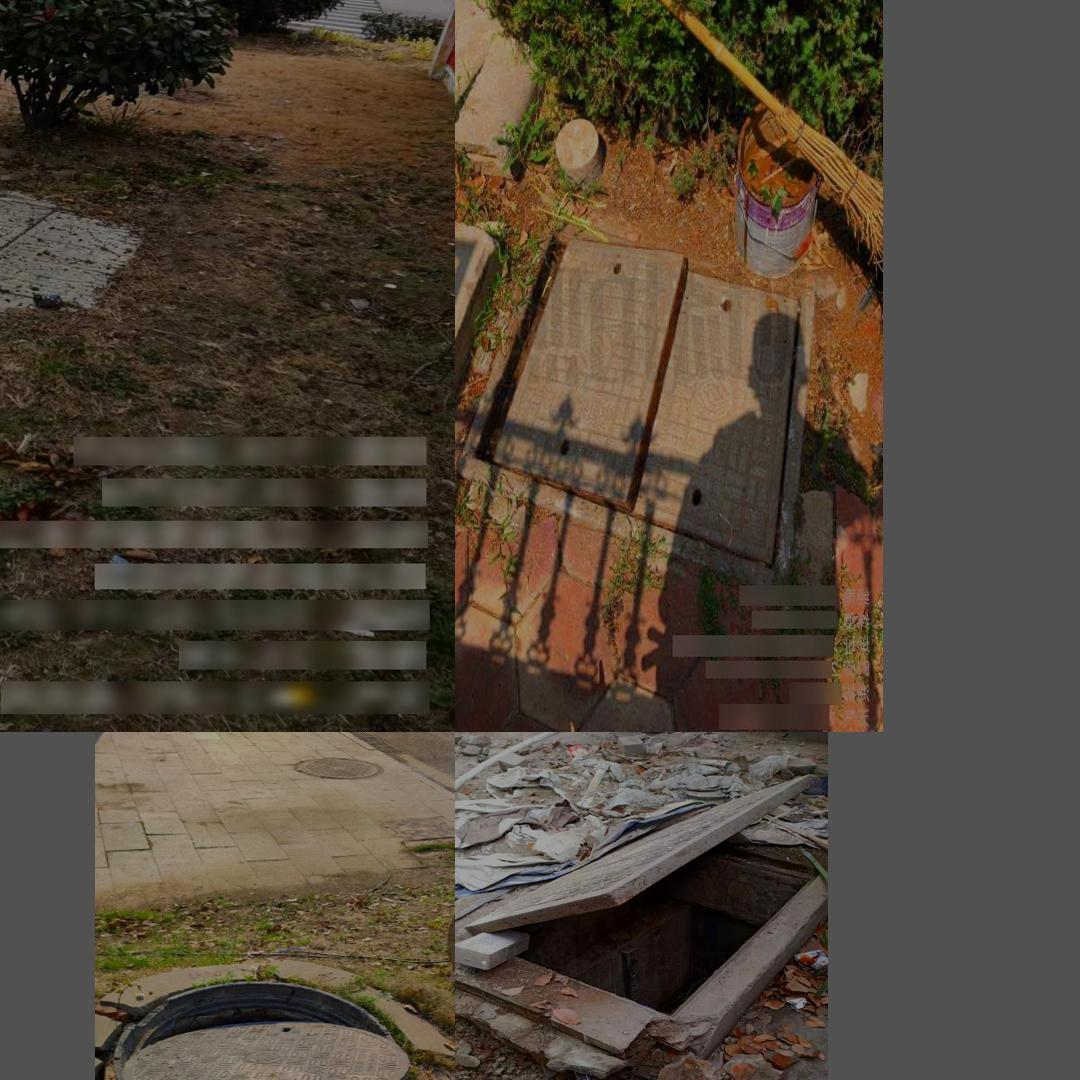uncovered: (458, 228, 815, 594), (455, 770, 826, 1069), (114, 977, 414, 1080), (0, 166, 139, 313)
